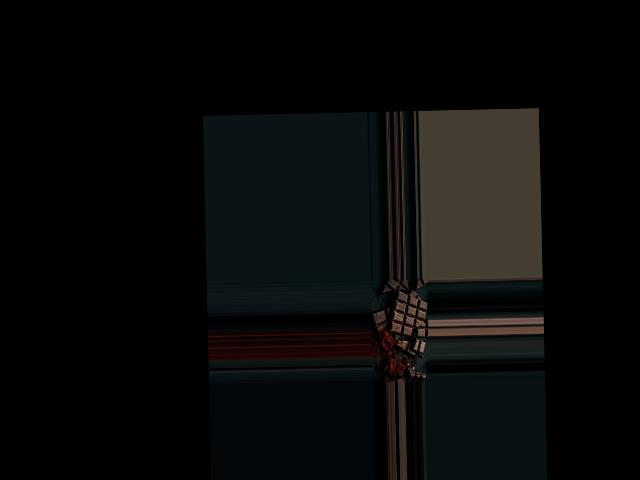chocolate: (387, 288, 428, 336)
